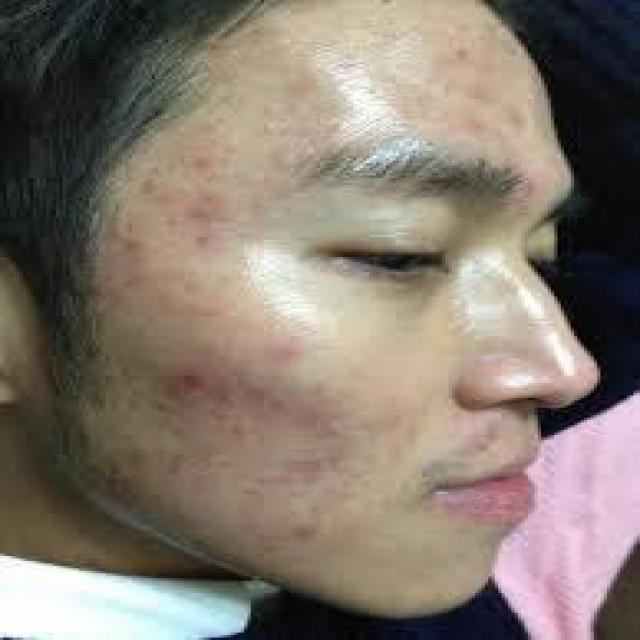pustule: (290, 388, 353, 445), (178, 192, 234, 235), (158, 354, 204, 396), (439, 109, 495, 143), (271, 514, 320, 551), (234, 371, 287, 405), (268, 457, 324, 482), (465, 420, 515, 447), (185, 141, 214, 173), (115, 235, 152, 257), (192, 294, 224, 319), (271, 334, 300, 361)
